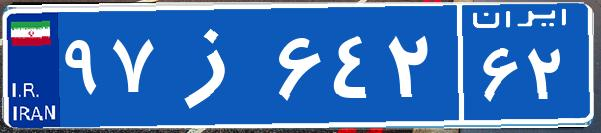2: (385, 28, 445, 110), (525, 38, 570, 115)
4: (330, 28, 385, 110)
6: (273, 28, 330, 110), (475, 38, 525, 113)
7: (110, 28, 158, 105)
9: (57, 26, 110, 107)
ز: (158, 15, 273, 115)
